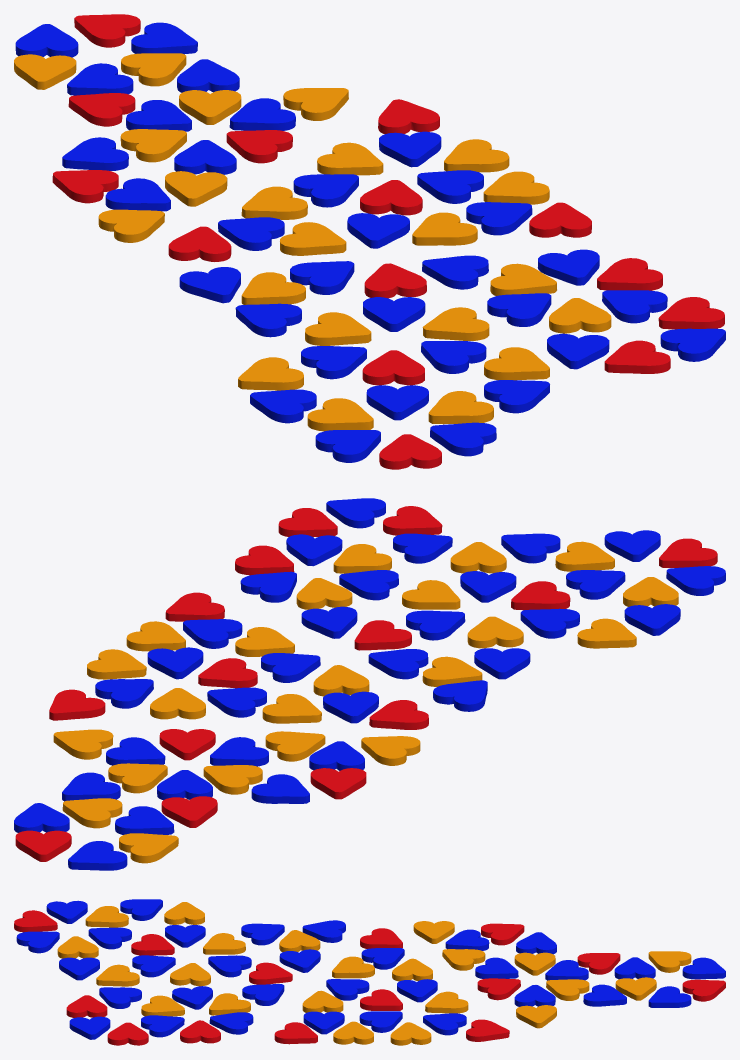
Rendered from typeCombine005.fbx.
The picture shows the model from 3 angles, top to bottom: view 1: azimuth 30°, elevation 25°; view 2: azimuth 150°, elevation 25°; view 3: azimuth 270°, elevation 25°; orthographic projection. The views are drawn at different scales.
Parts seen in each view (by area): view 1: typeCombine005; view 2: typeCombine005; view 3: typeCombine005.
Boxes of the visible parts, x1=… form: typeCombine005: x1=14, y1=14, x2=725, y2=469; typeCombine005: x1=14, y1=498, x2=725, y2=870; typeCombine005: x1=14, y1=899, x2=725, y2=1045.
Size of the model in its own units: 1575 by 27.96 by 3360.
